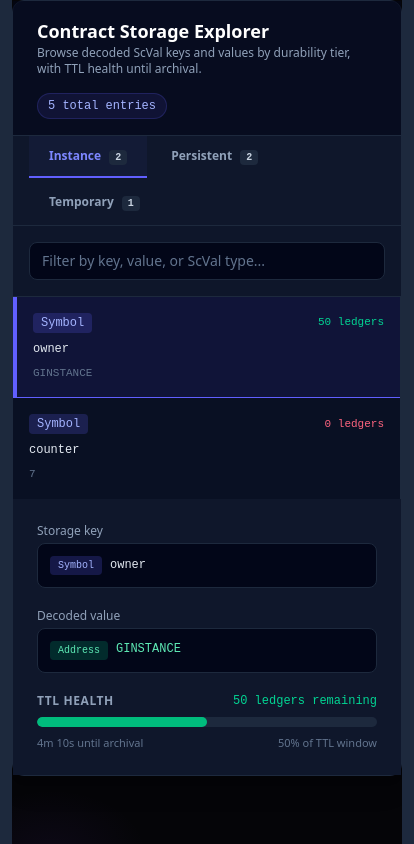
ContractStorageExplorer › filters the list by durability tier when a tab is selected
This screenshot has width=414, height=844.
What coordinates should you click on to do the following:
click the tab with test id "storage-tab-persistent"
I would click on:
 (215, 157)
Its box is top-left (151, 136), bottom-right (278, 178).
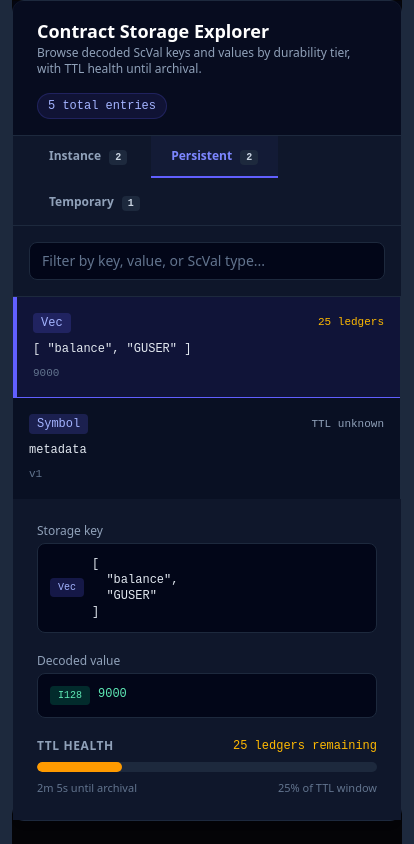
Check: the button with test id "storage-entry-persist-balance" is shown, box top-left (13, 297), bottom-right (400, 398)
Check: the button with test id "storage-entry-persist-metadata" is shown, box top-left (13, 398), bottom-right (400, 499)
Check: the button with test id "storage-entry-inst-owner" is gone
